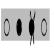correct: (15, 16, 23, 38)
not correct: (28, 9, 36, 47)
